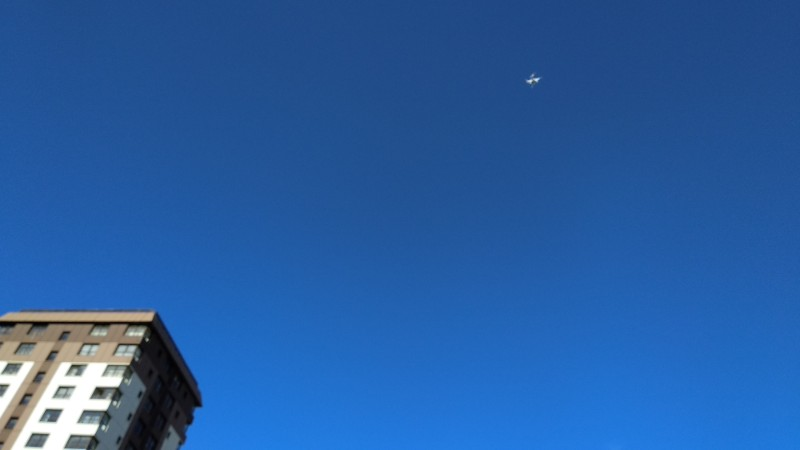drone: (525, 72, 542, 87)
